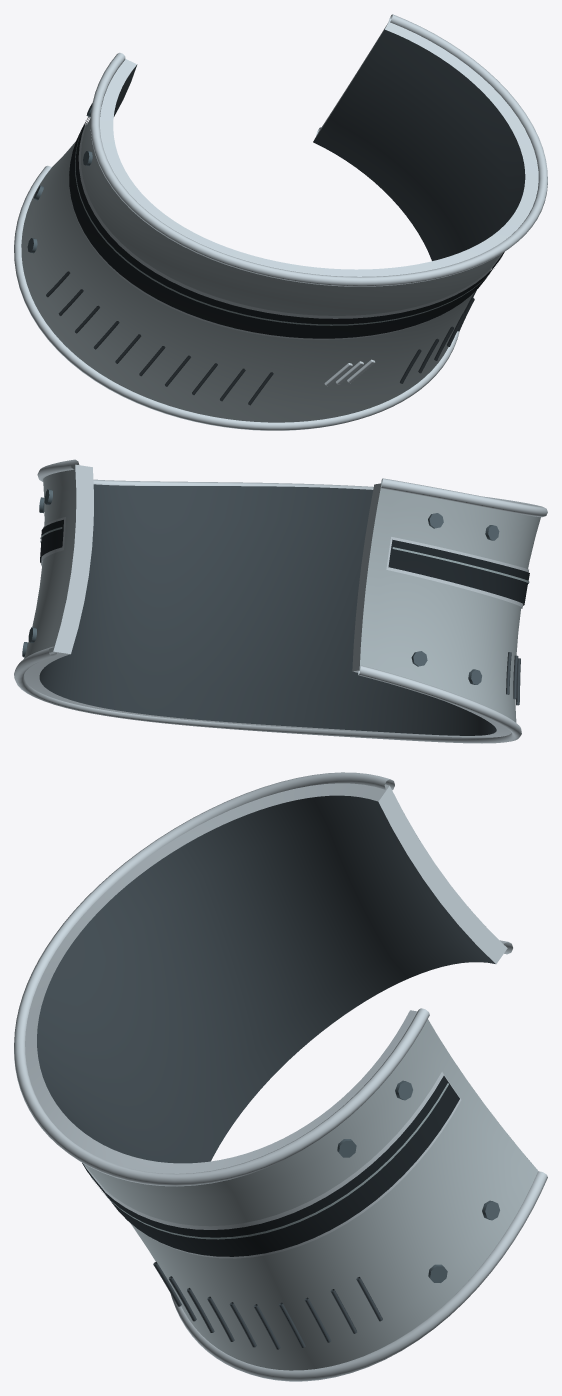
File: cuff.glb
3 views of the same model, one above another, from view 1: azimuth 30°, elevation 25°; view 2: azimuth 150°, elevation 25°; view 3: azimuth 270°, elevation 25° (orthographic). The views are drawn at different scales.
Visible parts, largest first — view 1: Formed metal shell, Smoked interior 2, Ceramic graphite 10, Polished nickel 7, Polished nickel 6, Polished nickel 4, Polished nickel 9, Laser etch 11; view 2: Smoked interior 2, Formed metal shell, Polished nickel 4, Ceramic graphite 10, Polished nickel 7, Polished nickel 8, Polished nickel 3, Polished nickel 5, Polished nickel 9, Laser etch 11; view 3: Smoked interior 2, Formed metal shell, Polished nickel 7, Polished nickel 6, Ceramic graphite 10, Polished nickel 4, Polished nickel 5, Polished nickel 9, Laser etch 11.
Part boxes in pixels (x1,y1,x2,y2): Formed metal shell: [21, 118, 500, 422]; Smoked interior 2: [114, 29, 525, 260]; Ceramic graphite 10: [69, 117, 504, 338]; Polished nickel 7: [90, 14, 547, 286]; Polished nickel 6: [100, 19, 538, 276]; Polished nickel 4: [14, 127, 459, 430]; Polished nickel 9: [70, 117, 502, 339]; Laser etch 11: [75, 120, 502, 325]; Smoked interior 2: [39, 484, 496, 735]; Formed metal shell: [24, 464, 540, 722]; Polished nickel 4: [14, 646, 521, 743]; Ceramic graphite 10: [40, 519, 529, 605]; Polished nickel 7: [37, 459, 547, 517]; Polished nickel 8: [53, 464, 93, 654]; Polished nickel 3: [24, 651, 511, 737]; Polished nickel 5: [352, 483, 381, 671]; Polished nickel 9: [41, 517, 528, 608]; Laser etch 11: [40, 527, 529, 583]; Smoked interior 2: [37, 795, 495, 1163]; Formed metal shell: [83, 909, 538, 1370]; Polished nickel 7: [14, 772, 429, 1186]; Polished nickel 6: [25, 783, 417, 1173]; Ceramic graphite 10: [82, 1076, 459, 1256]; Polished nickel 4: [171, 940, 547, 1381]; Polished nickel 5: [378, 786, 507, 964]; Polished nickel 9: [84, 1072, 461, 1258]; Laser etch 11: [90, 1083, 448, 1239].
Size of the model in its own units: 0.081 by 0.0571 by 0.0629.
